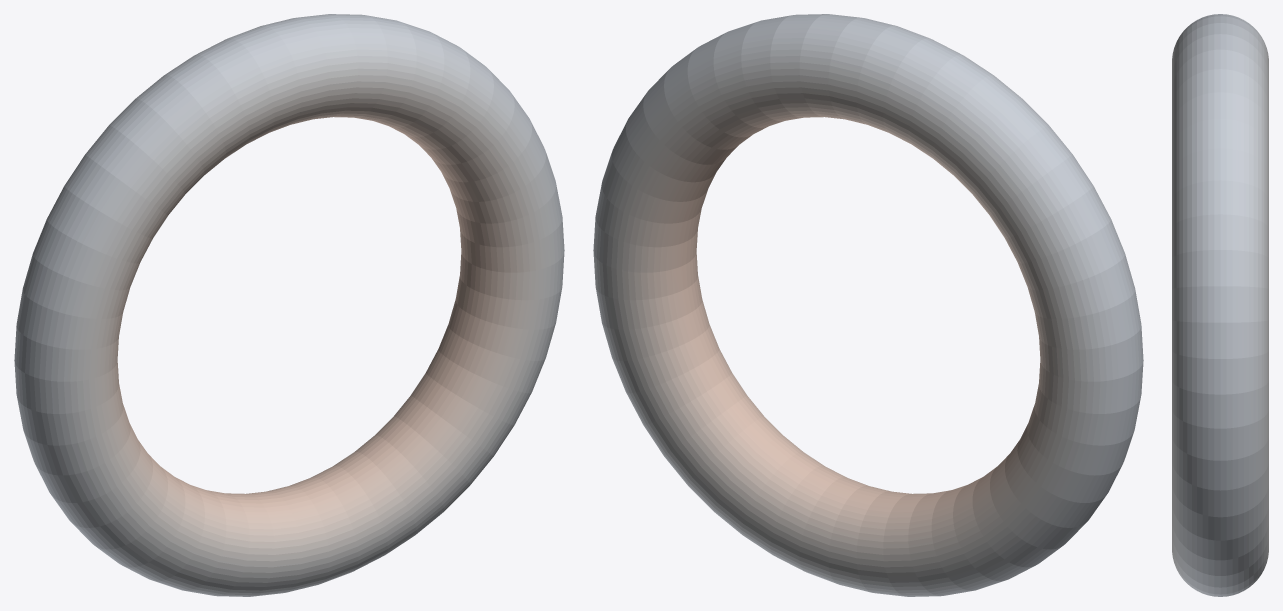
The picture shows the model from 3 angles, left to right: view 1: azimuth 30°, elevation 25°; view 2: azimuth 150°, elevation 25°; view 3: azimuth 270°, elevation 25°; orthographic projection. The views are drawn at different scales.
Parts seen in each view (by area): view 1: world; view 2: world; view 3: world.
Boxes of the visible parts, x1,y1,x2,y2 form: world: [14, 14, 564, 596]; world: [593, 14, 1143, 596]; world: [1172, 14, 1268, 596].
Size of the model in its own units: 29.6 by 29.54 by 4.92.
